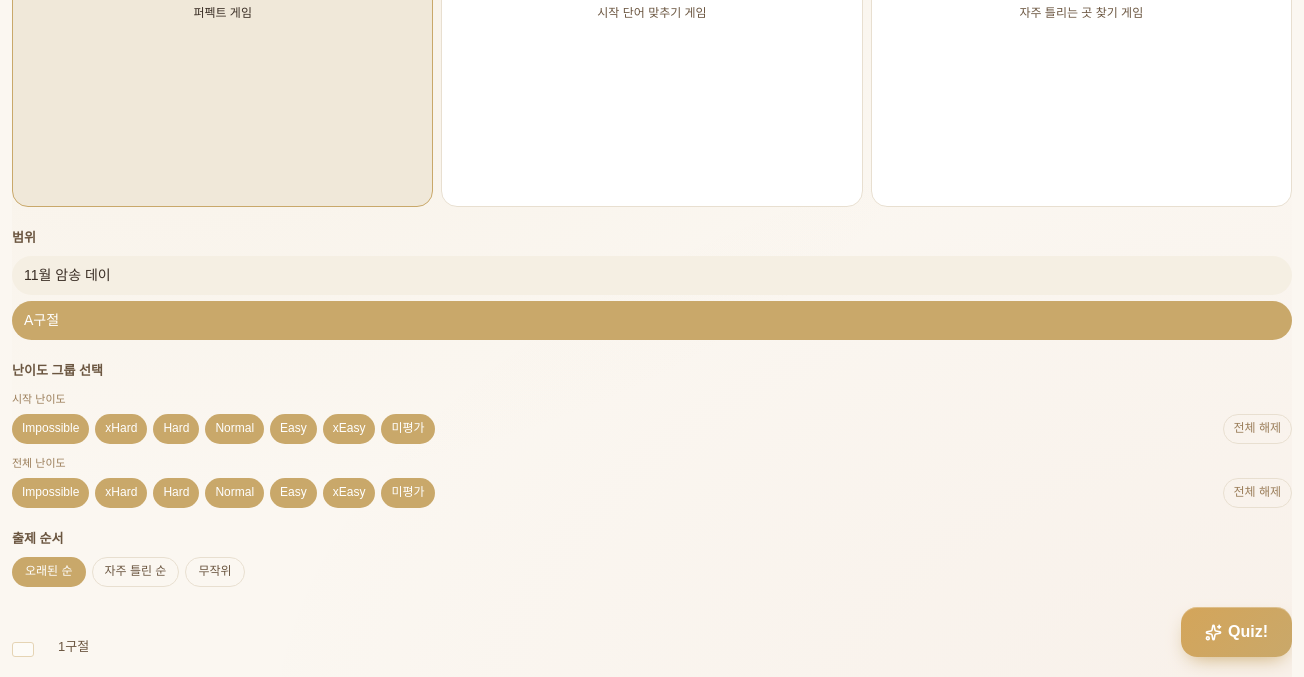
Test: QuizScopePicker — 난이도 rows › needs a verse to clear both rows
(page scrolled)
Check: the text "1구절" is shown, box top-left (58, 636), bottom-right (89, 657)
Click the button "xEasy" below "전체 난이도" at point(349, 493), box top-left (323, 478), bottom-right (376, 508)
(page scrolled)
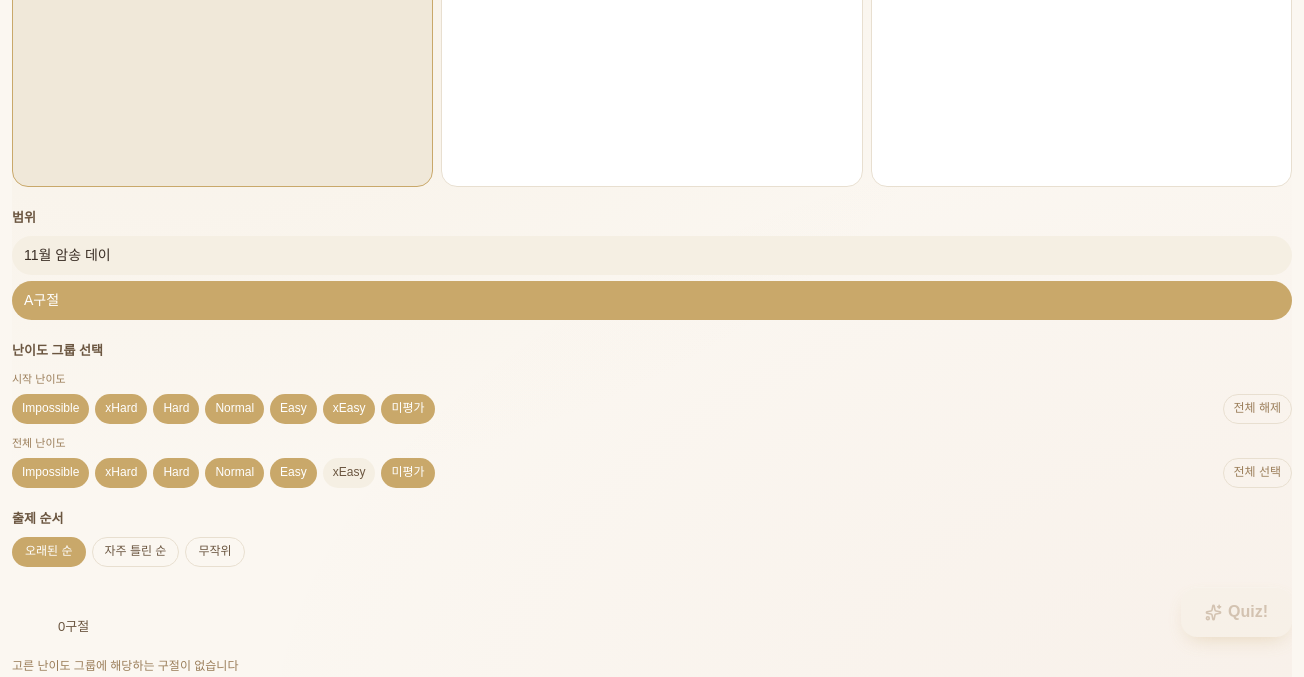
Check: the text "고른 난이도 그룹에 해당하는 구절이 없습니다" is shown, box top-left (12, 659), bottom-right (238, 673)
